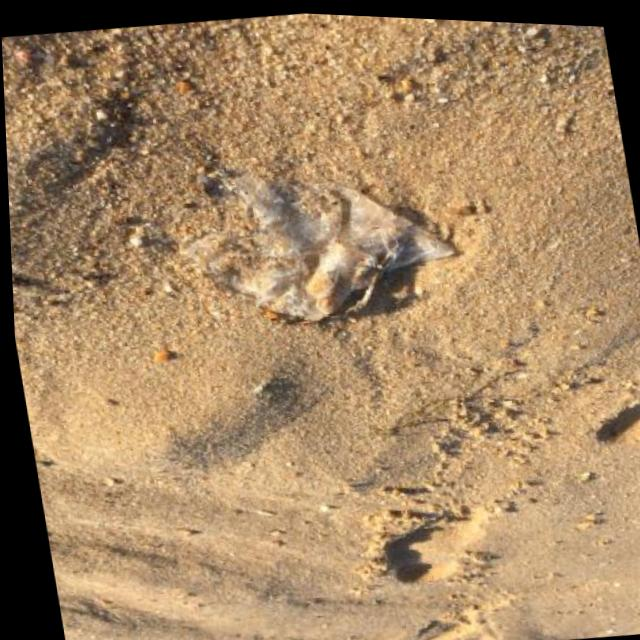plastic: (165, 138, 467, 343)
